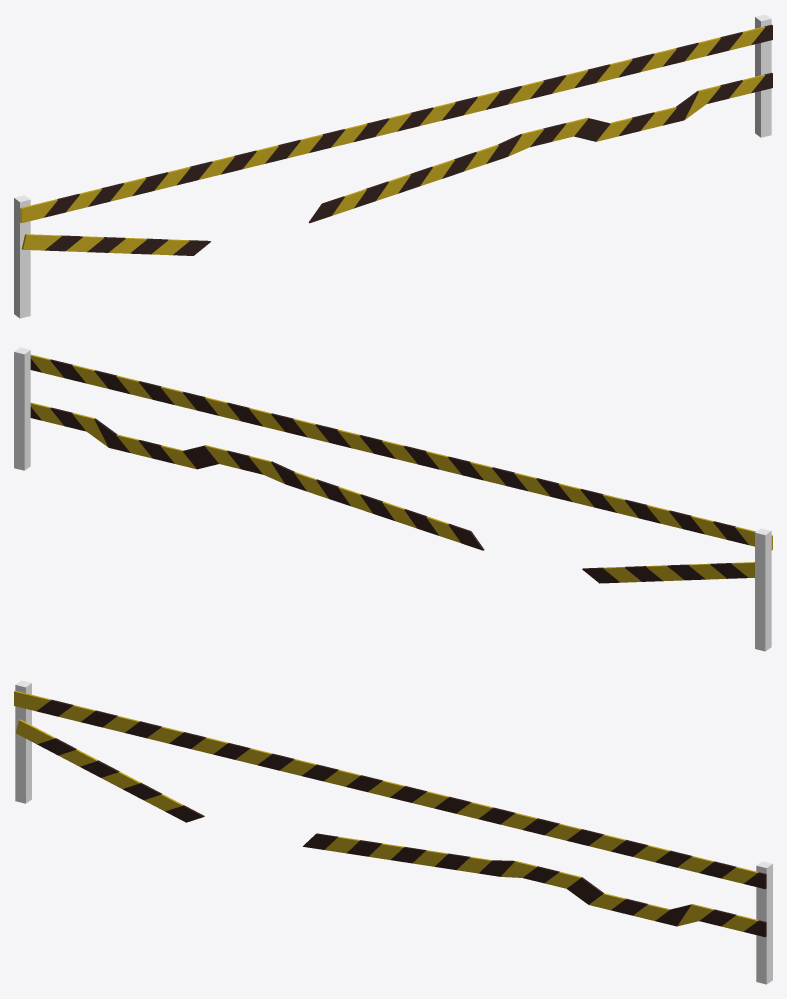
The model's file is 11 Stripe border.FBX.
The picture shows the model from 3 angles, top to bottom: view 1: azimuth 30°, elevation 25°; view 2: azimuth 150°, elevation 25°; view 3: azimuth 330°, elevation 25°; orthographic projection.
Parts seen in each view (by area): view 1: Closer; view 2: Closer; view 3: Closer.
Boxes of the visible parts, left/top/right/bottom form: Closer: left=14, top=14, right=772, bottom=318; Closer: left=14, top=347, right=772, bottom=651; Closer: left=14, top=680, right=772, bottom=984.
Size of the model in its own units: 3553 by 526 by 61.19.
